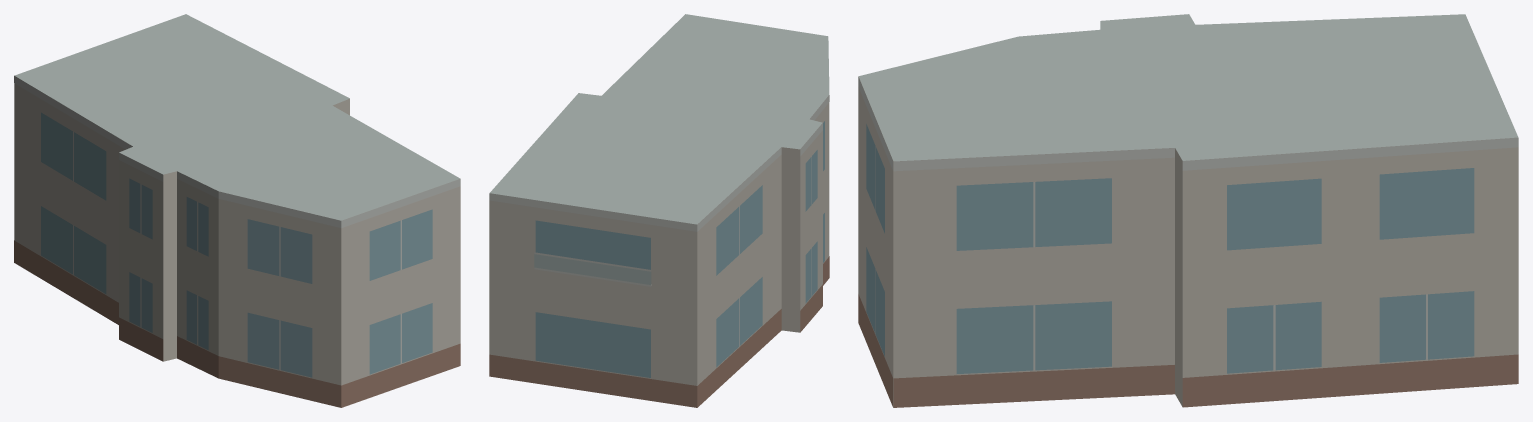
Rendered from survey-upis-32818699.glb.
3 views of the same model, side by side, from view 1: azimuth 30°, elevation 25°; view 2: azimuth 150°, elevation 25°; view 3: azimuth 270°, elevation 25° (orthographic). The views are drawn at different scales.
Visible parts, largest first — view 1: survey-upis-32818699.tmp; view 2: survey-upis-32818699.tmp; view 3: survey-upis-32818699.tmp.
Boxes of the visible parts, x1,y1,x2,y2 form: survey-upis-32818699.tmp: (14, 14, 460, 407); survey-upis-32818699.tmp: (489, 14, 829, 407); survey-upis-32818699.tmp: (858, 14, 1518, 407).
Bounding box in the file's own units: 7.84 × 6.1 × 14.82.
